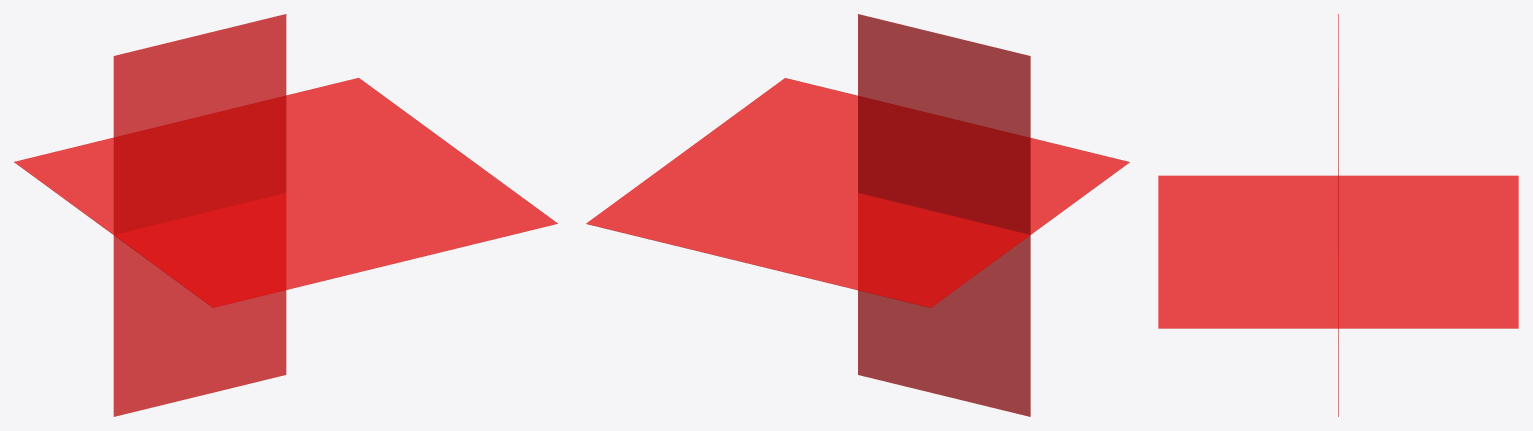
The model's file is planes.FBX.
The picture shows the model from 3 angles, left to right: view 1: azimuth 30°, elevation 25°; view 2: azimuth 150°, elevation 25°; view 3: azimuth 270°, elevation 25°; orthographic projection. The views are drawn at different scales.
Parts seen in each view (by area): view 1: cut_plane_H, cut_plane_V; view 2: cut_plane_H, cut_plane_V; view 3: cut_plane_H.
Part boxes in pixels (x1,y1,x2,y2): cut_plane_H: (14,77,557,307); cut_plane_V: (113,14,286,416); cut_plane_H: (586,78,1129,307); cut_plane_V: (858,14,1030,416); cut_plane_H: (1158,175,1518,328).
Size of the model in its own units: 100 by 100 by 100.
